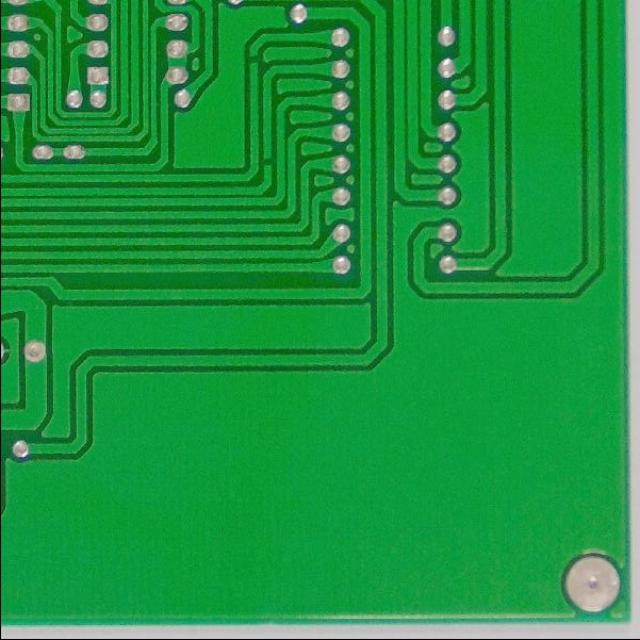Open_Circuit: (243, 49, 265, 70), (257, 152, 277, 170)
